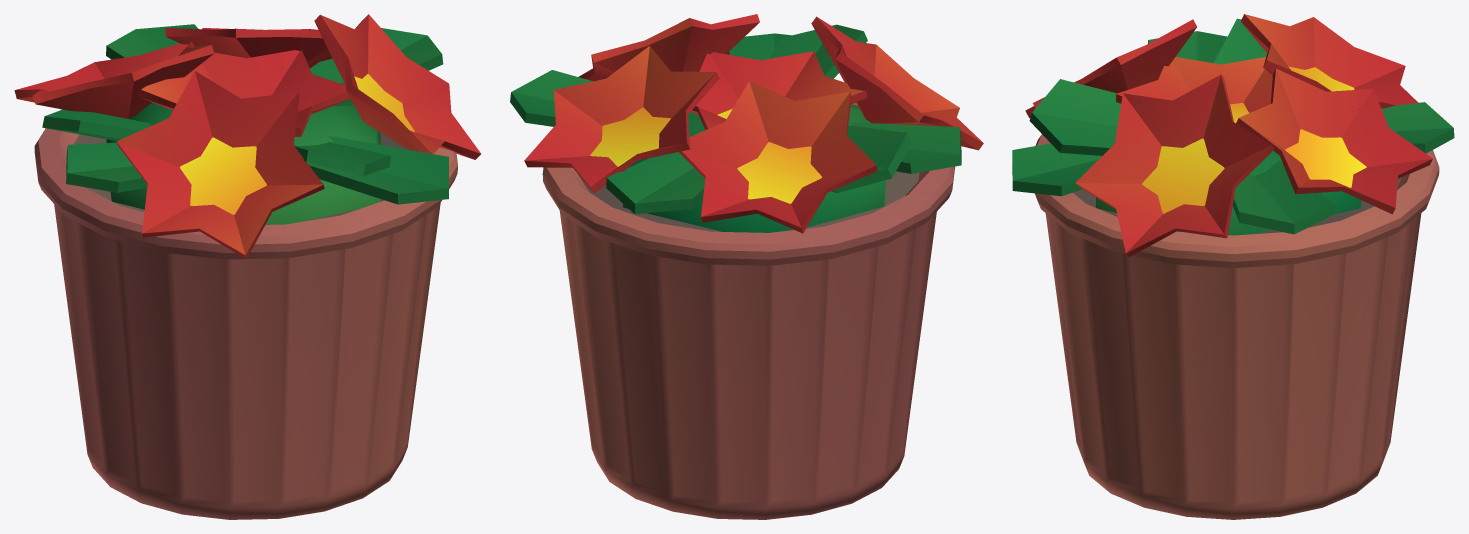
File: OrnateFlowerPotRed.fbx
3 renders of one model, left to right at view 1: azimuth 30°, elevation 25°; view 2: azimuth 150°, elevation 25°; view 3: azimuth 270°, elevation 25°, orthographic. The views are drawn at different scales.
Visible parts, largest first — view 1: OrnateFlowerPotRed; view 2: OrnateFlowerPotRed; view 3: OrnateFlowerPotRed.
Part boxes in pixels (<box>): OrnateFlowerPotRed: <box>14,14,480,519</box>; OrnateFlowerPotRed: <box>510,14,983,519</box>; OrnateFlowerPotRed: <box>1012,14,1454,519</box>.
Size of the model in its own units: 0.3863 by 0.3822 by 0.3704.
